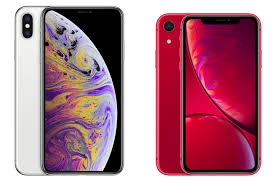iphone: (38, 4, 126, 173), (178, 12, 263, 180)
iphone10: (12, 3, 126, 175), (152, 10, 263, 178), (36, 4, 125, 175), (178, 11, 263, 179)
